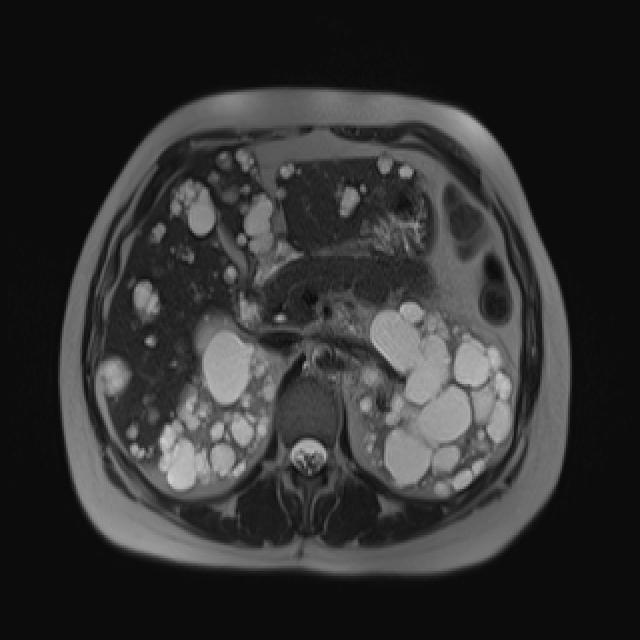sag: (158, 306, 279, 492)
sol: (355, 297, 515, 498)
